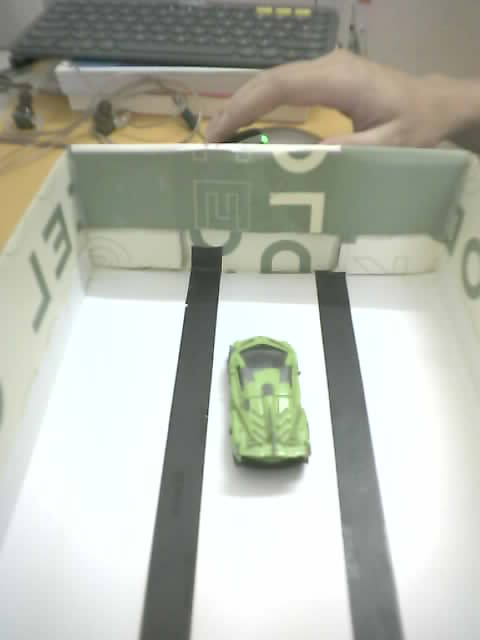vehicle: (223, 336, 311, 495)
